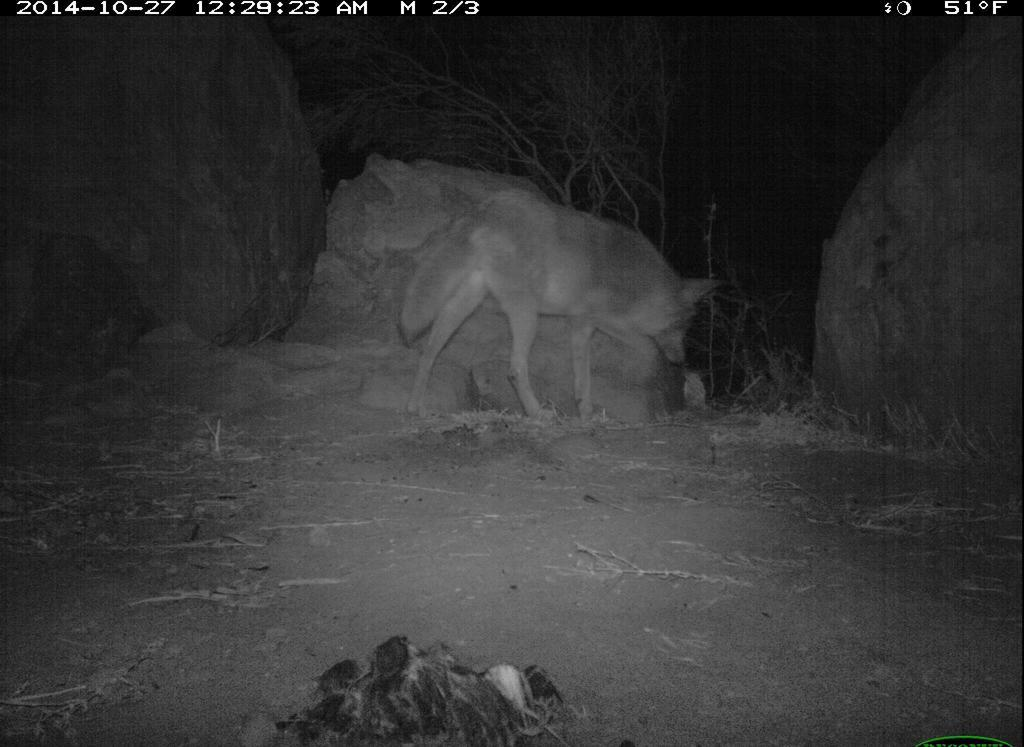coyote: (402, 185, 728, 442)
